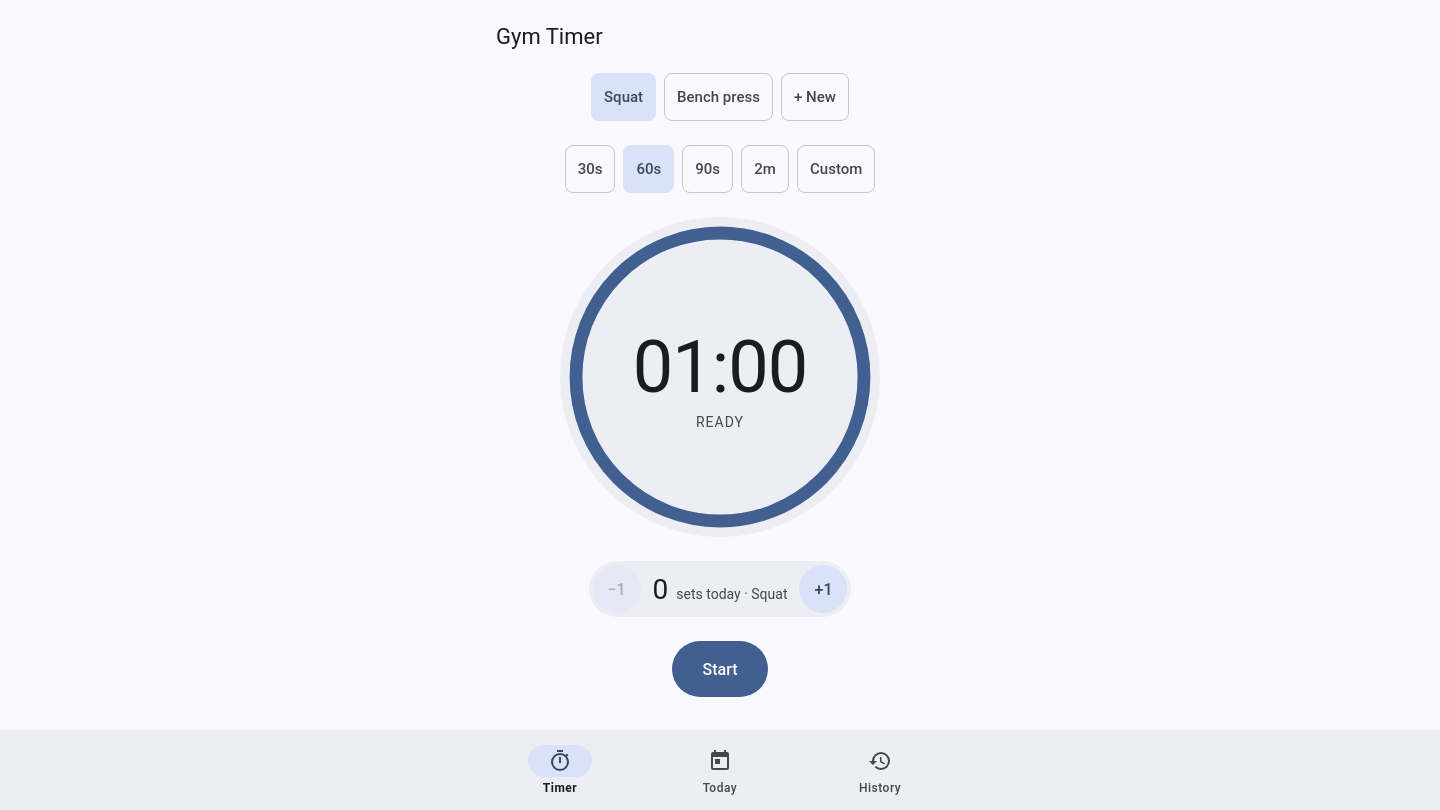
Test case: exercise chips › + New with an existing name selects it instead of duplicating
The width and height of the screenshot is (1440, 810).
Click the button "+ New".
click(815, 97)  # box 781,73 -> 849,121
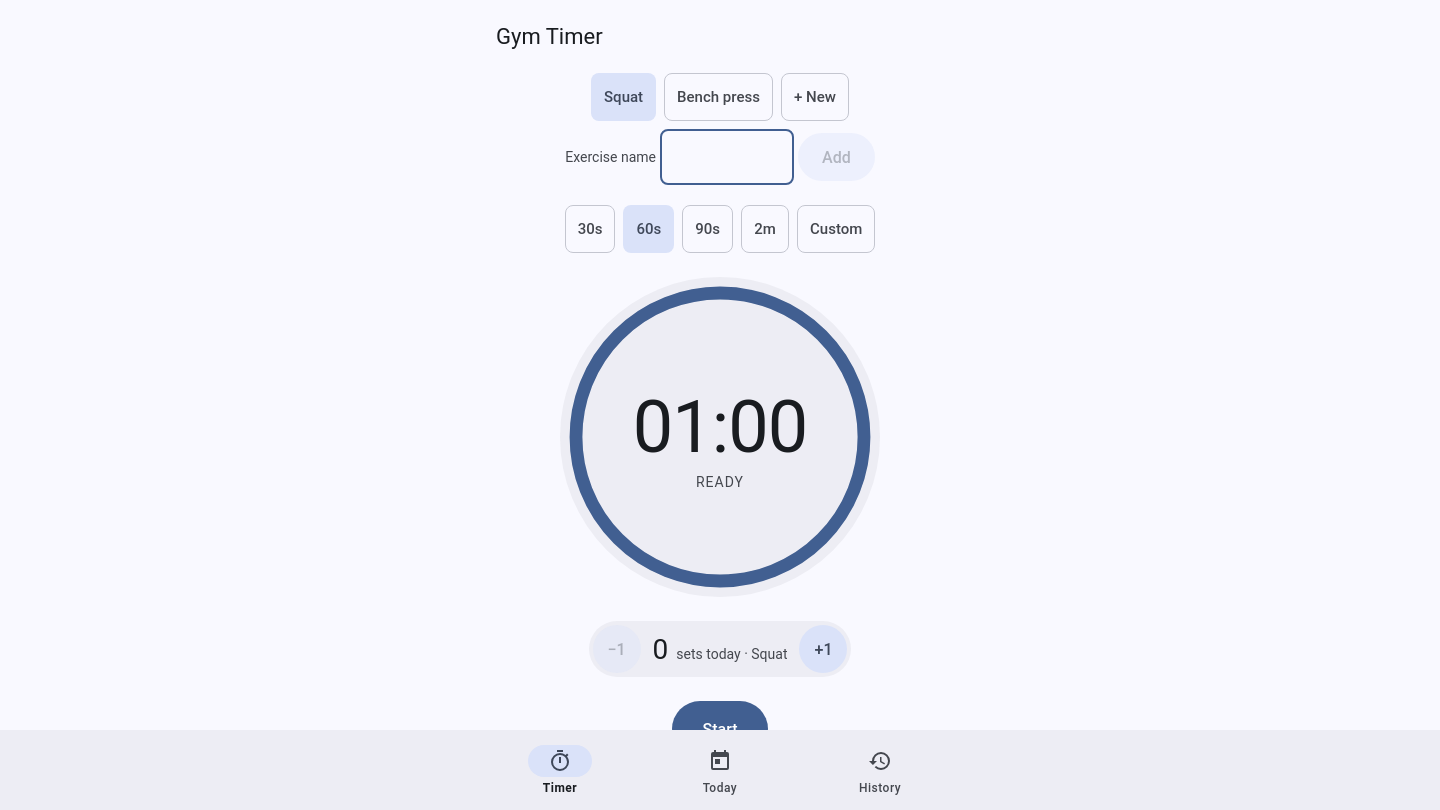
Type "  bench PRESS " into the field labelled "Exercise name".
click(727, 157); type("  bench PRESS ")  # box 664,133 -> 790,181
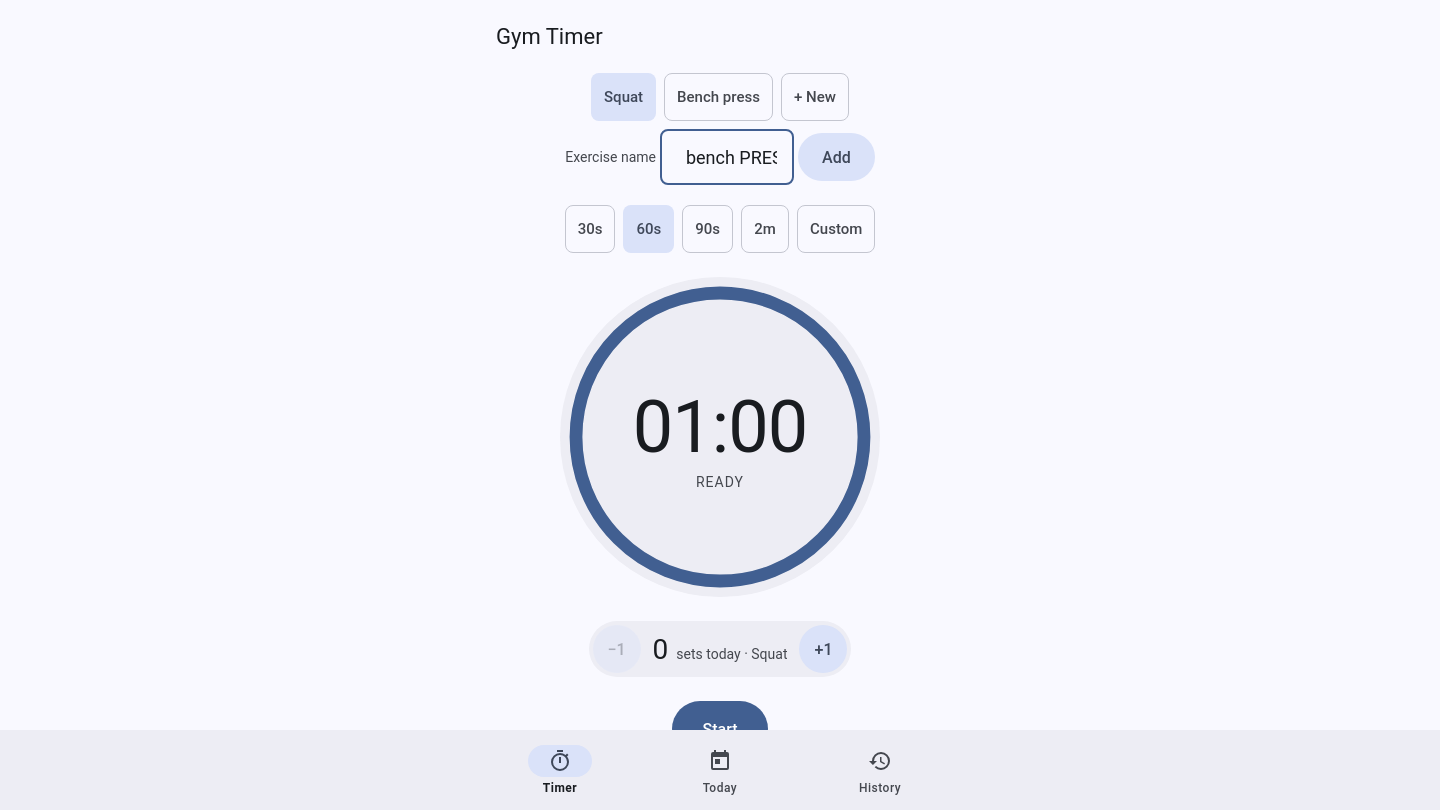
Click the button "Add".
click(836, 157)  # box 798,133 -> 875,181
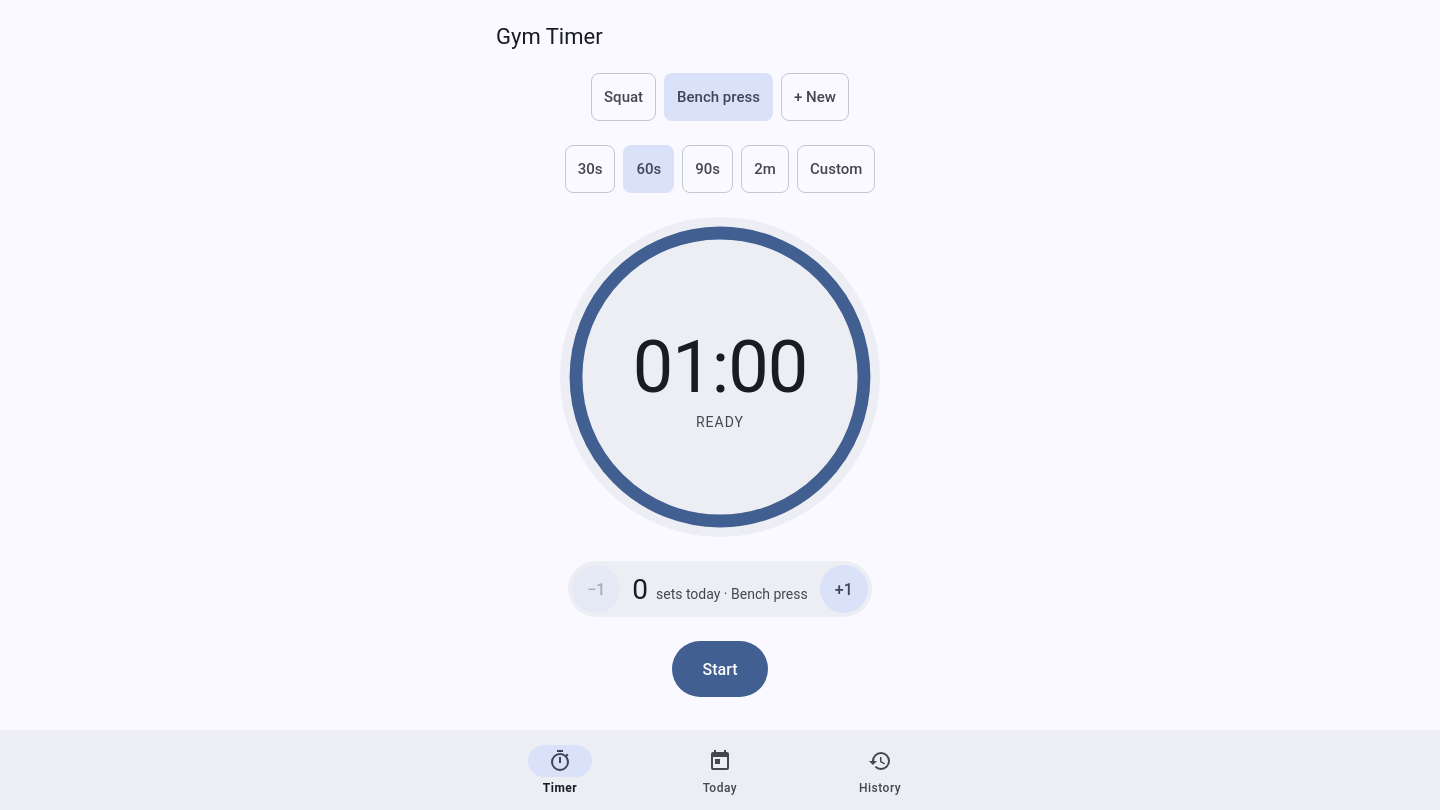
Expected: the number of buttons with class "chip--exercise" is 2, 591,73 -> 656,121; 664,73 -> 773,121
Expected: the button "Bench press" is pressed, 664,73 -> 773,121
